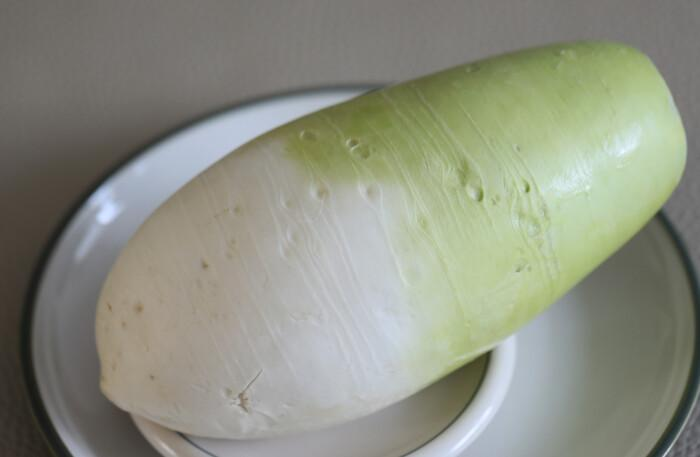radish: (221, 44, 700, 279)
